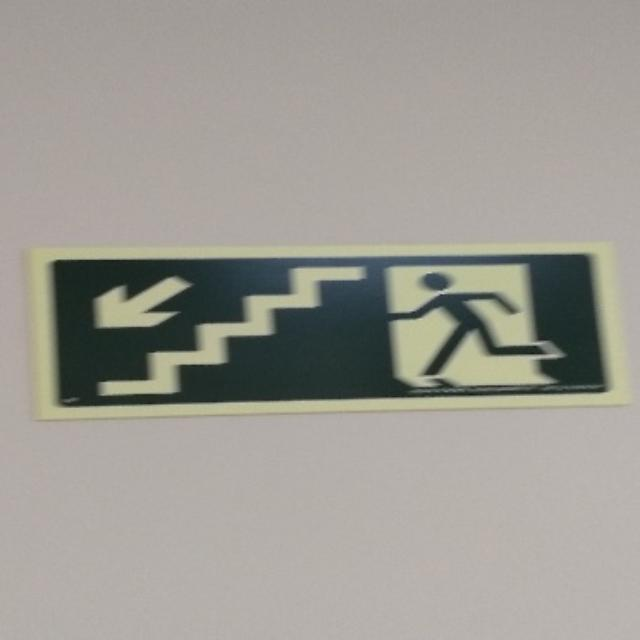exit: (31, 244, 626, 418)
